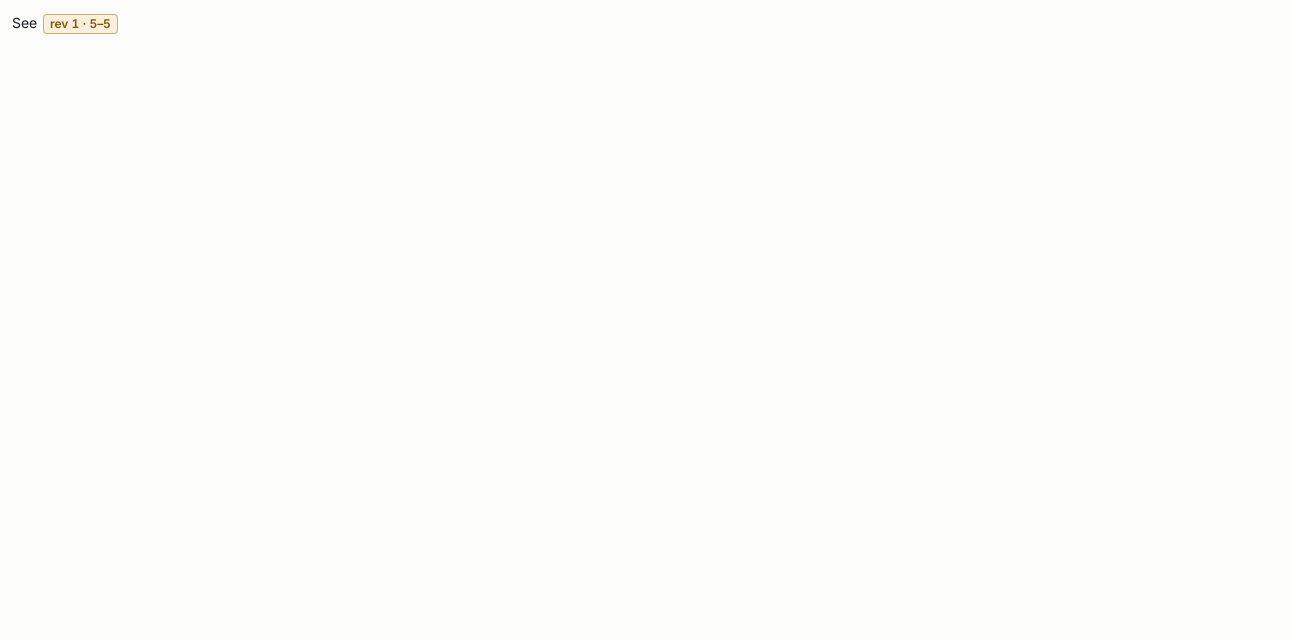
opens a chat citation against the historical wording after active text changes
Click the button titled "evidence:source-one#R1L5-L5": click(80, 24) [43, 14, 118, 34]
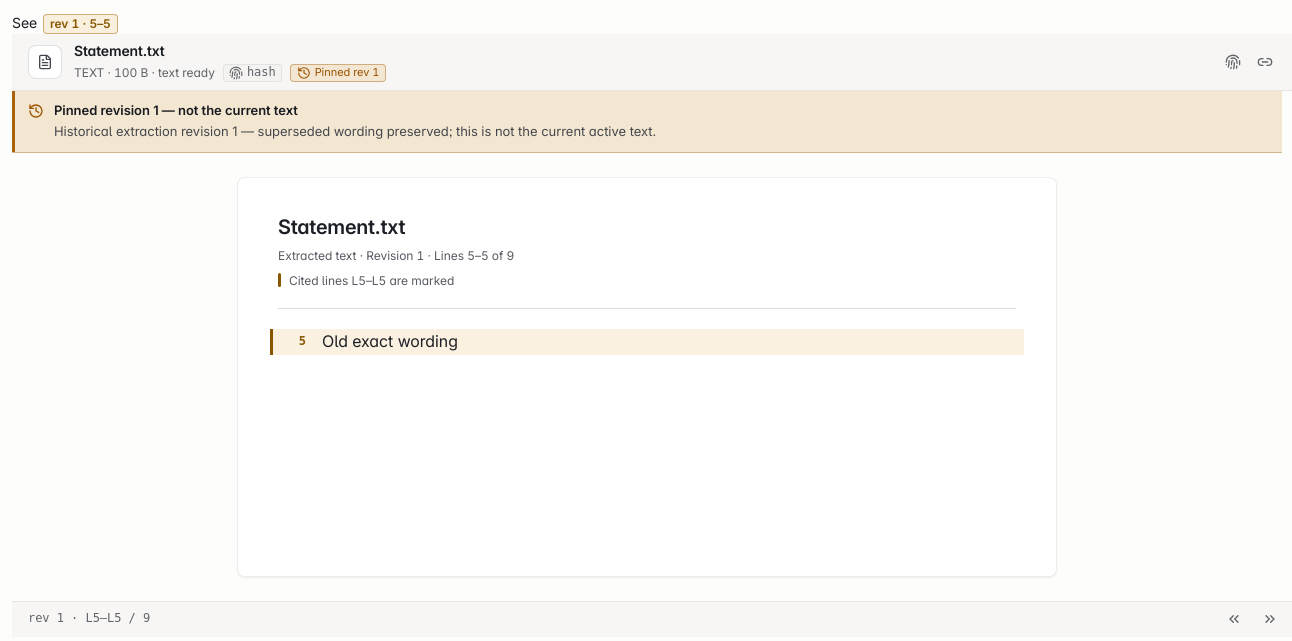
Check: the text "Old exact wording" is shown, box [322, 329, 458, 355]
